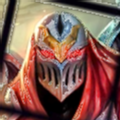Zed: (1, 1, 120, 119)
